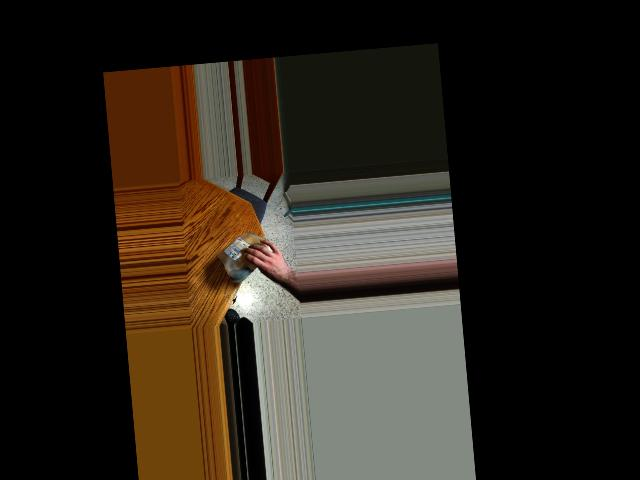cheese: (214, 226, 277, 277)
